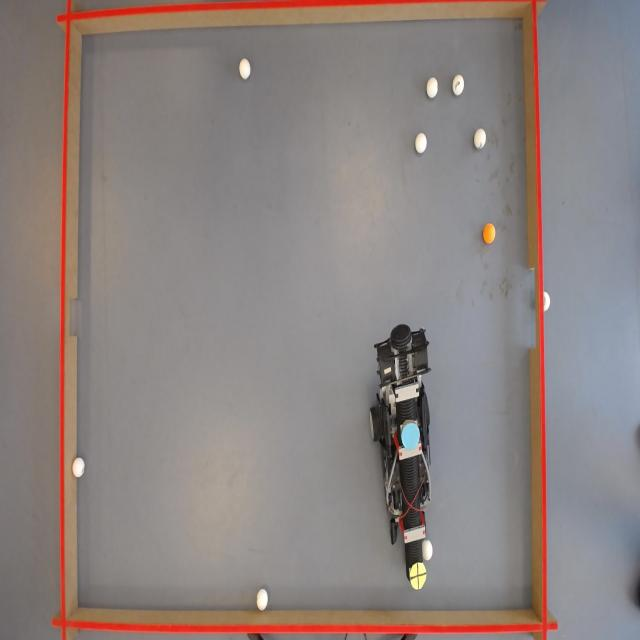orange: (483, 225, 498, 246)
robot: (372, 328, 434, 592)
robot-front: (410, 562, 428, 590)
robot-rear: (403, 421, 422, 452)
white: (71, 457, 86, 480), (255, 589, 269, 612), (239, 58, 253, 80), (425, 77, 439, 98), (475, 129, 488, 150), (452, 77, 465, 98), (416, 132, 428, 154), (421, 540, 433, 560)
